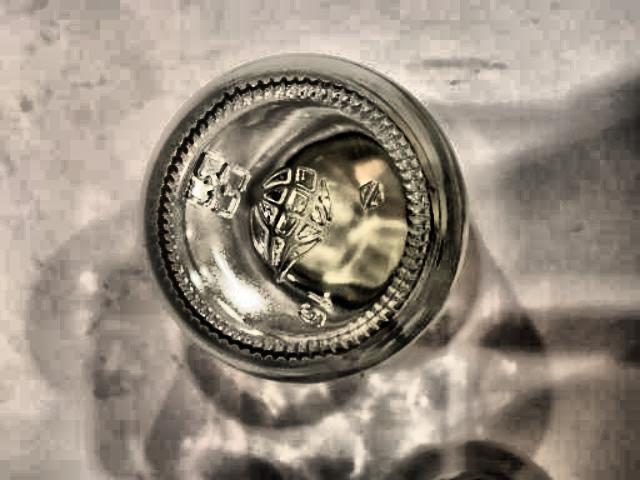Almennt: (145, 46, 480, 382)
